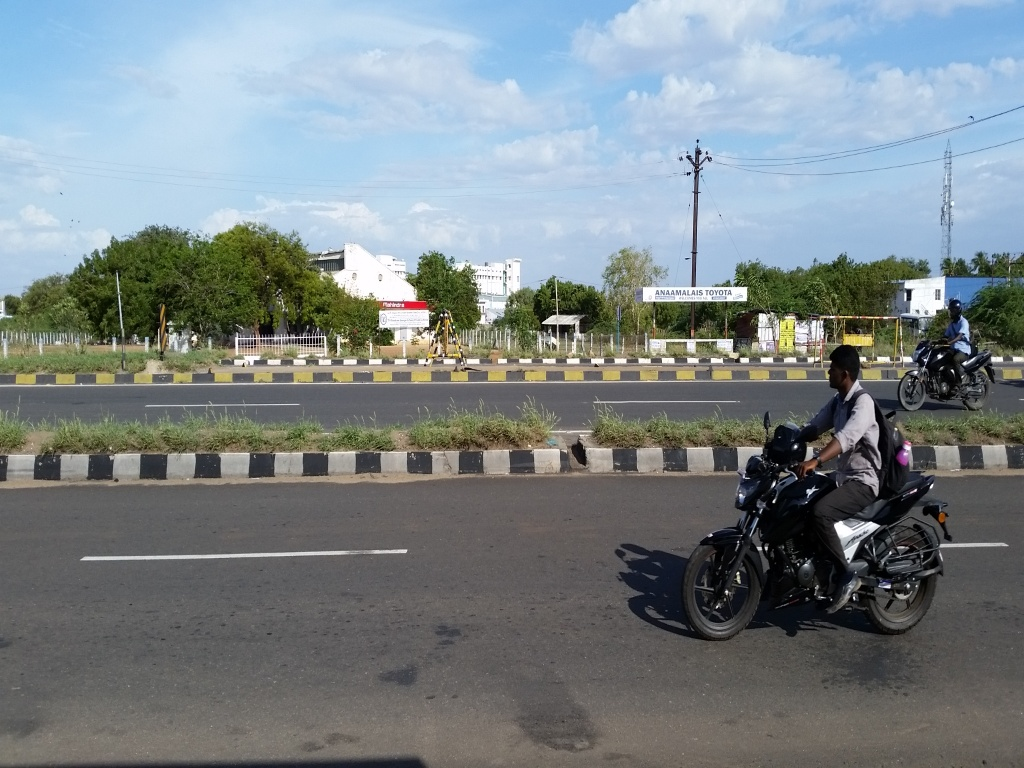biker: (662, 320, 963, 657), (897, 261, 1003, 415)
helmet: (942, 293, 970, 320)
nohelmet: (824, 340, 870, 402)
